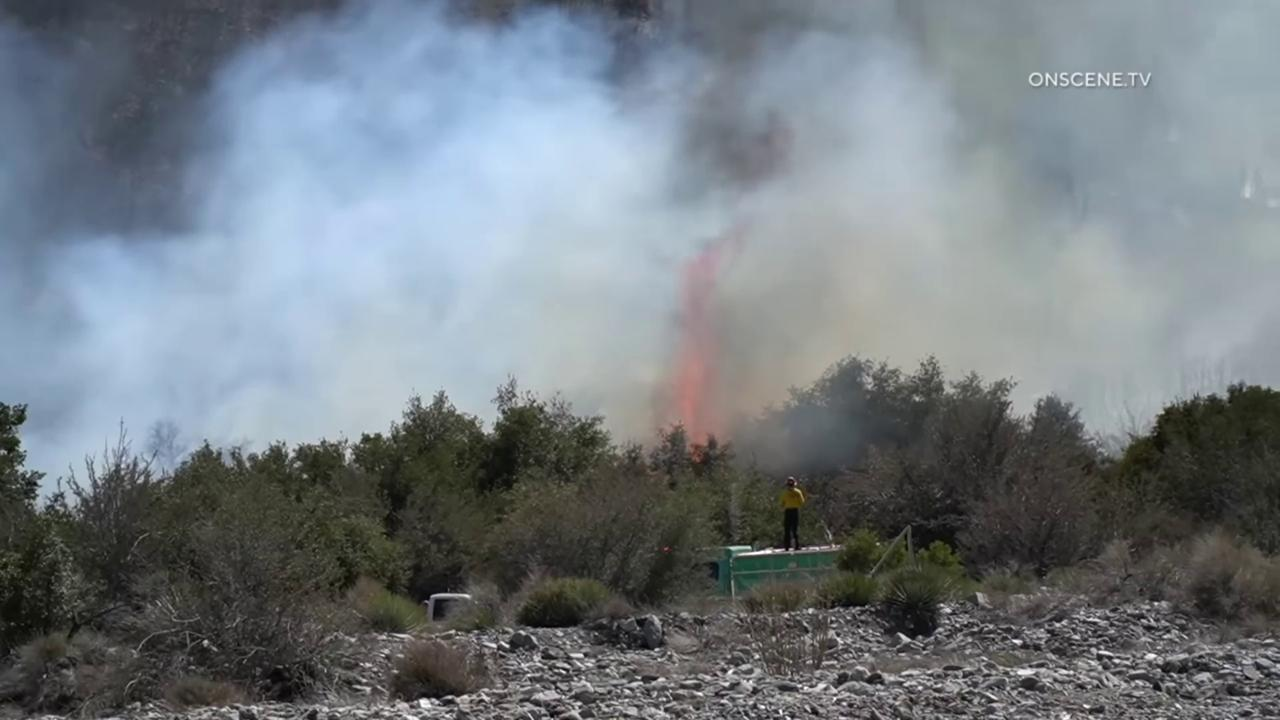fire: (676, 348, 721, 464)
smoke: (0, 0, 1280, 514)
